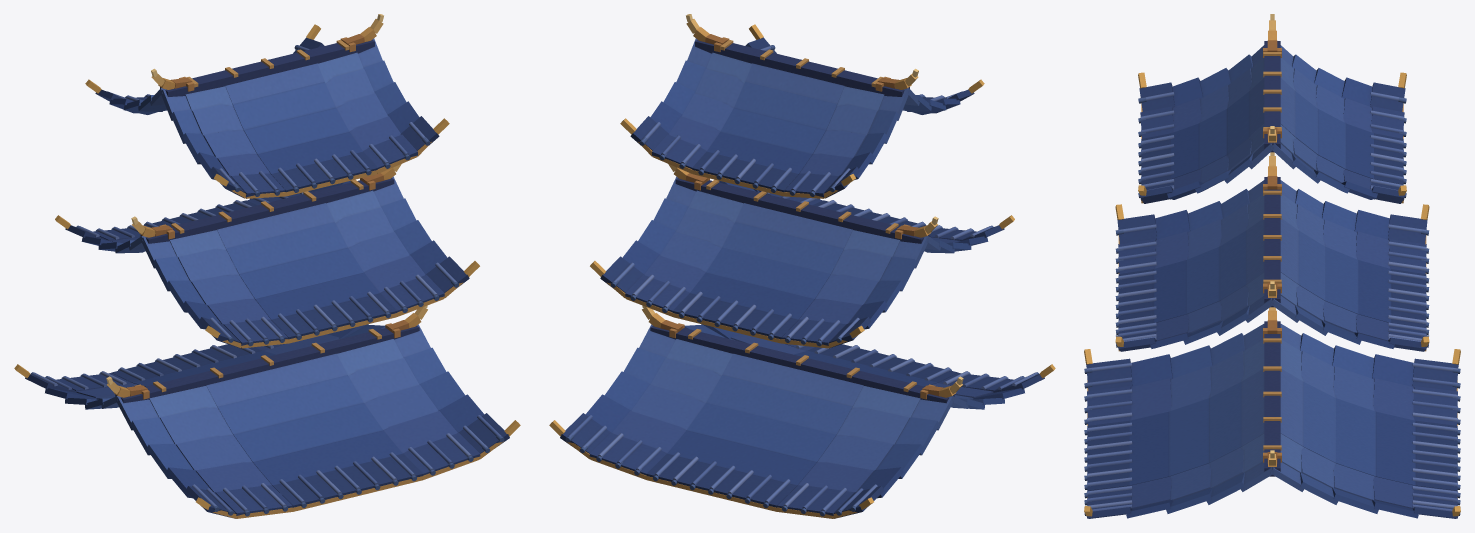
The model's file is Lantern_Tower_Roofs.glb.
The picture shows the model from 3 angles, left to right: view 1: azimuth 30°, elevation 25°; view 2: azimuth 150°, elevation 25°; view 3: azimuth 270°, elevation 25°; orthographic projection.
Visible parts, largest first — view 1: Lantern_Tower_Roofs; view 2: Lantern_Tower_Roofs; view 3: Lantern_Tower_Roofs.
Part boxes in pixels (x1=…): Lantern_Tower_Roofs: x1=14, y1=14, x2=520, y2=518; Lantern_Tower_Roofs: x1=549, y1=14, x2=1055, y2=518; Lantern_Tower_Roofs: x1=1084, y1=14, x2=1460, y2=518.
Bounding box in the file's own units: 24.31 × 27.83 × 24.11.
Materials: 1 (1 with a texture image).
